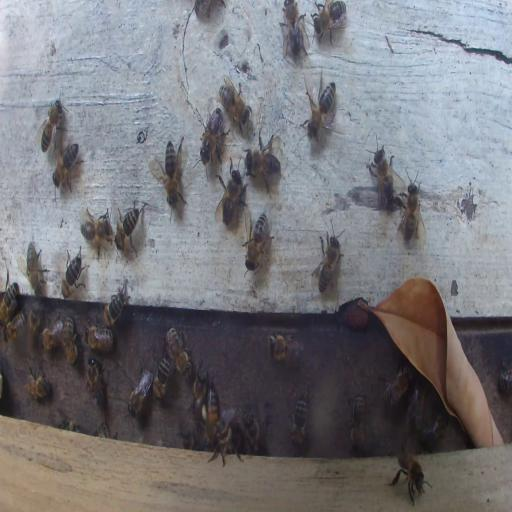nonpollenbee: (366, 132, 401, 212), (312, 218, 345, 294), (244, 130, 280, 194), (215, 158, 247, 229), (390, 450, 430, 505), (303, 75, 336, 140), (397, 171, 423, 243), (160, 136, 184, 210), (113, 202, 145, 257), (241, 212, 271, 270), (281, 0, 309, 60), (311, 0, 347, 45), (80, 206, 113, 255), (52, 141, 81, 196), (210, 420, 242, 468), (40, 96, 66, 153), (218, 78, 250, 124), (200, 108, 226, 162), (101, 282, 130, 328), (166, 325, 192, 376), (381, 366, 411, 410), (62, 246, 86, 299), (268, 330, 302, 366), (288, 388, 309, 446), (25, 241, 47, 296), (128, 366, 150, 416), (24, 364, 51, 400), (350, 394, 366, 454), (86, 358, 105, 407), (406, 386, 428, 427), (84, 324, 114, 353), (1, 279, 19, 327), (421, 415, 446, 448), (154, 352, 171, 400), (40, 318, 65, 350), (62, 316, 78, 366), (4, 310, 26, 344), (191, 364, 207, 410), (244, 411, 260, 452), (28, 304, 40, 346), (500, 361, 512, 395), (179, 430, 195, 448), (93, 420, 108, 437)
pollenbee: (202, 383, 220, 443)
